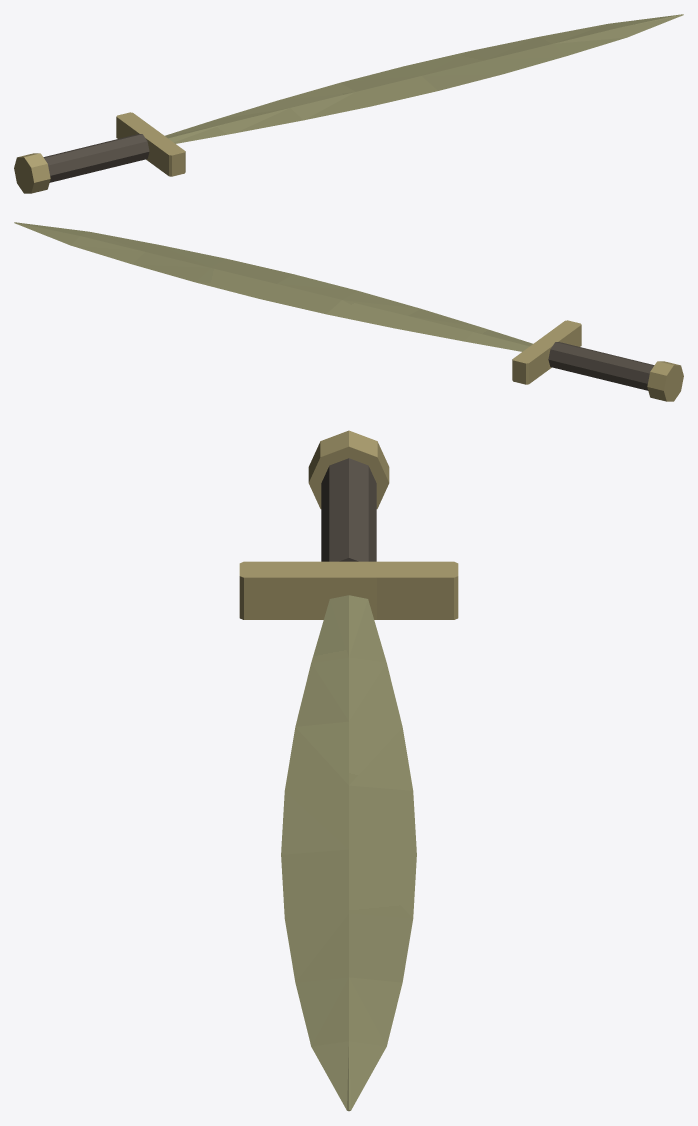
The model's file is weapon-bronze-sword.glb.
3 renders of one model, top to bottom at view 1: azimuth 30°, elevation 25°; view 2: azimuth 150°, elevation 25°; view 3: azimuth 270°, elevation 25°, orthographic. The views are drawn at different scales.
Parts seen in each view (by area): view 1: weapon-bronze-sword/faceted-distinct-blade, weapon-bronze-sword/eight-sided-handle, weapon-bronze-sword/transverse-crossguard, weapon-bronze-sword/handle-end-pommel; view 2: weapon-bronze-sword/faceted-distinct-blade, weapon-bronze-sword/eight-sided-handle, weapon-bronze-sword/transverse-crossguard, weapon-bronze-sword/handle-end-pommel; view 3: weapon-bronze-sword/faceted-distinct-blade, weapon-bronze-sword/transverse-crossguard, weapon-bronze-sword/eight-sided-handle, weapon-bronze-sword/handle-end-pommel.
Boxes of the visible parts, x1,y1,x2,y2 form: weapon-bronze-sword/faceted-distinct-blade: [165, 14, 683, 143]; weapon-bronze-sword/eight-sided-handle: [43, 134, 149, 182]; weapon-bronze-sword/transverse-crossguard: [116, 112, 185, 176]; weapon-bronze-sword/handle-end-pommel: [14, 153, 50, 193]; weapon-bronze-sword/faceted-distinct-blade: [14, 222, 532, 351]; weapon-bronze-sword/eight-sided-handle: [548, 342, 654, 390]; weapon-bronze-sword/transverse-crossguard: [512, 320, 581, 384]; weapon-bronze-sword/handle-end-pommel: [647, 361, 683, 401]; weapon-bronze-sword/faceted-distinct-blade: [281, 595, 416, 1111]; weapon-bronze-sword/transverse-crossguard: [239, 561, 458, 619]; weapon-bronze-sword/eight-sided-handle: [321, 458, 376, 561]; weapon-bronze-sword/handle-end-pommel: [308, 430, 389, 508].
Bounding box in the file's own units: 0.717 × 0.038 × 0.103.
3 materials, 3 textured.
